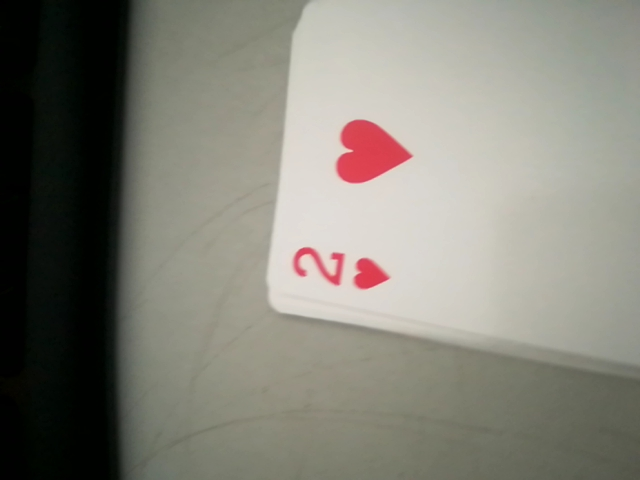hx 2: (284, 235, 411, 302)
